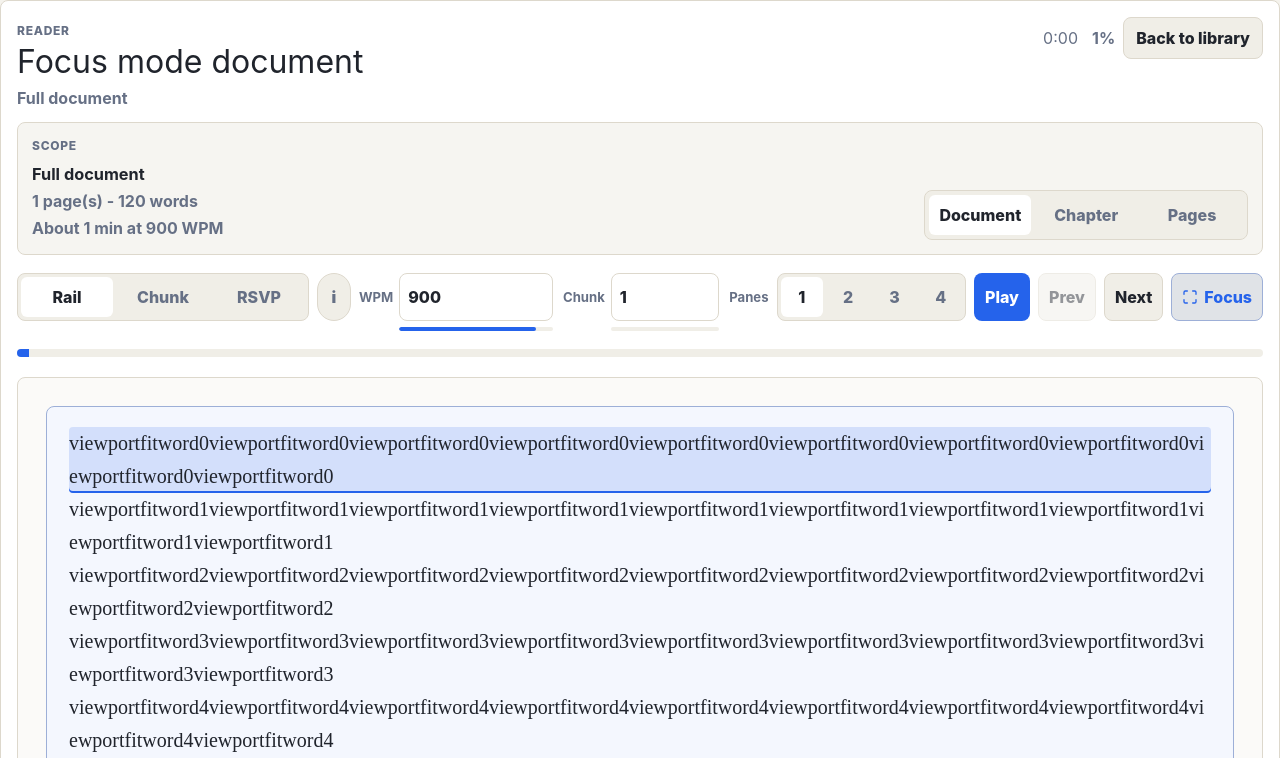
Test: ReaderRail virtual panes › steps visible panes without moving the reading cursor
Check: the button with class "active-chunk" shows "viewportfitword0", box x1=69 y1=427 x2=1211 y2=493
Click the button with aria-label "Next pane". click: (1134, 297)
box: x1=1104 y1=273 x2=1163 y2=321
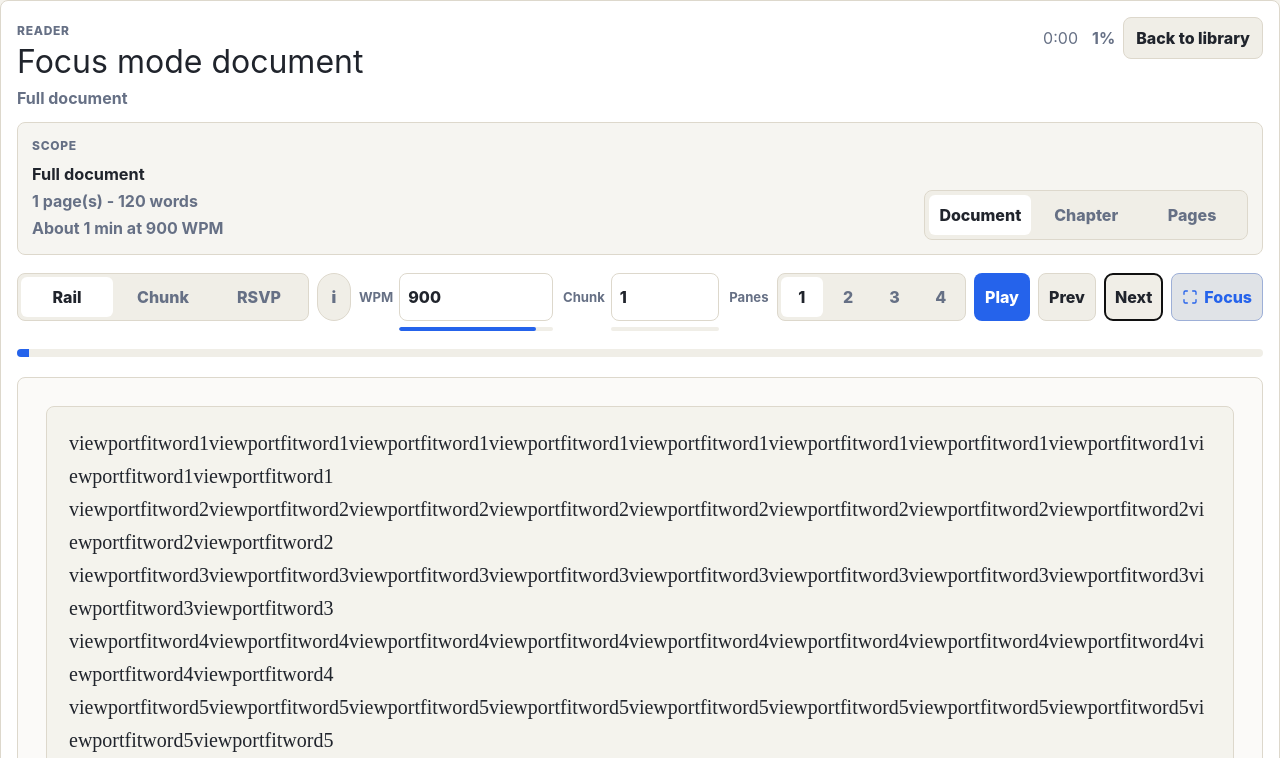
Check: the button with class "active-chunk" is gone
Click the button with aria-label "Previous pane". click: (1067, 297)
box: x1=1038 y1=273 x2=1096 y2=321
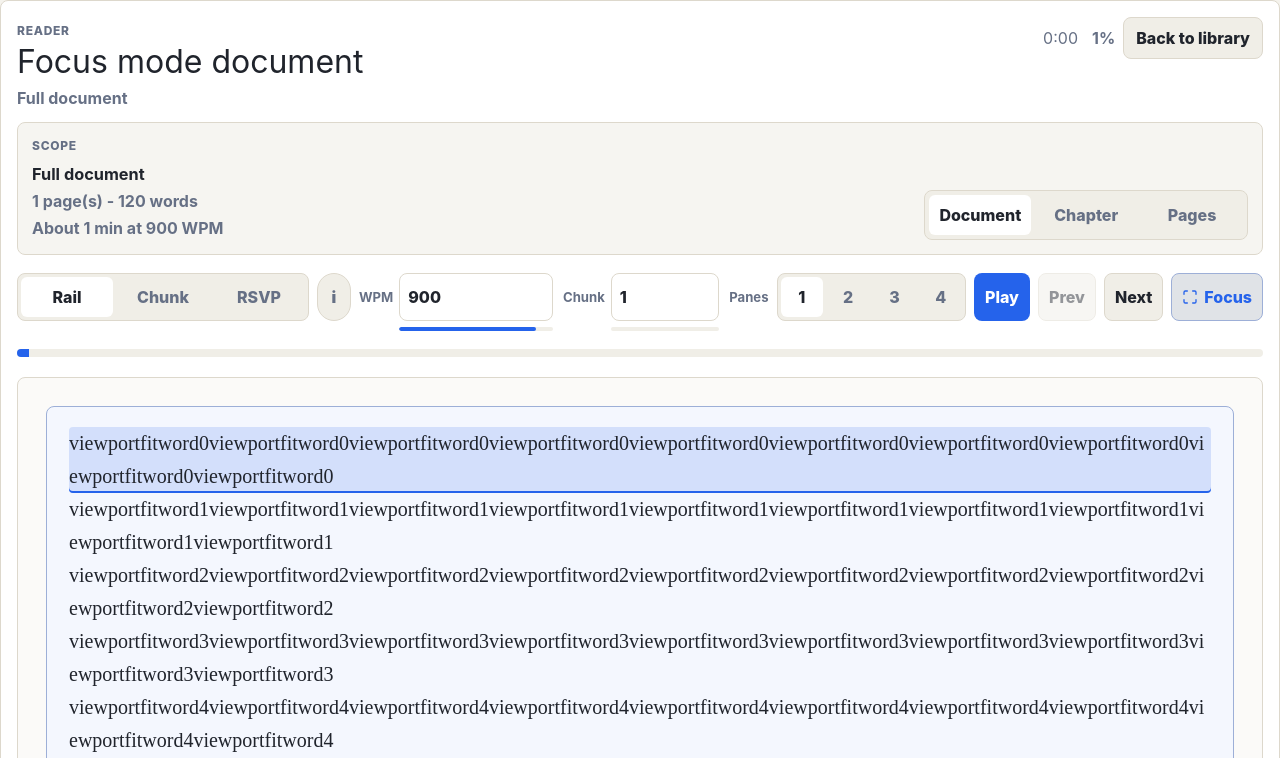
Check: the button with class "active-chunk" shows "viewportfitword0", box x1=69 y1=427 x2=1211 y2=493
